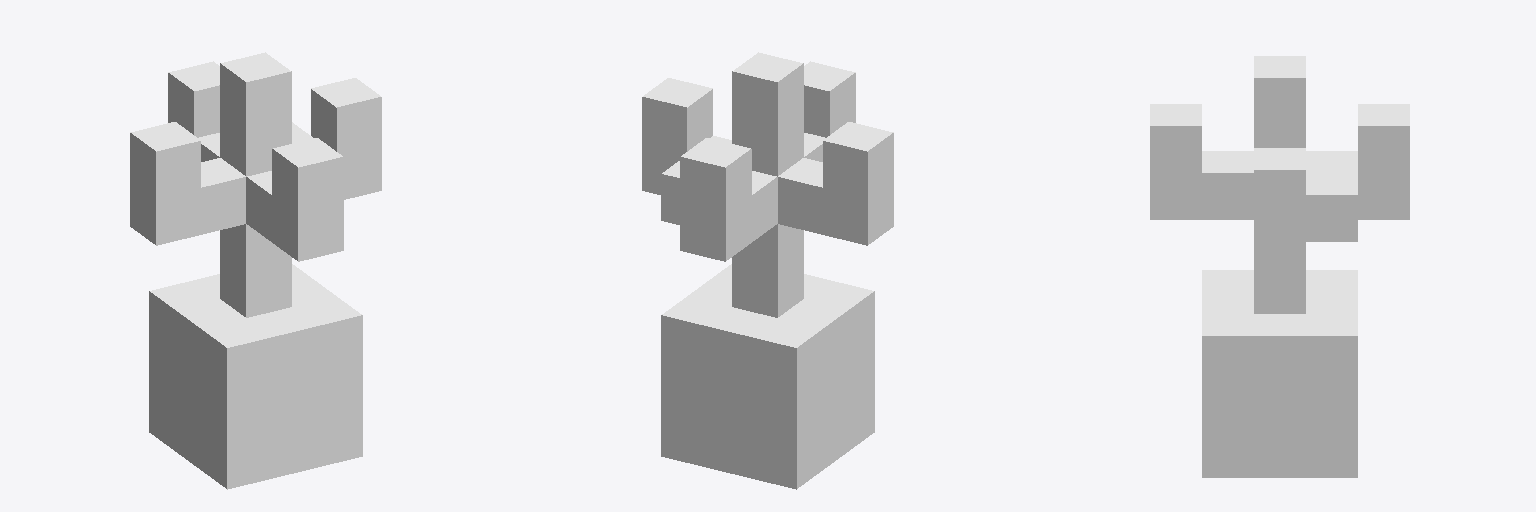
Rendered from BushTable.obj.
3 views of the same model, side by side, from view 1: azimuth 30°, elevation 25°; view 2: azimuth 150°, elevation 25°; view 3: azimuth 270°, elevation 25° (orthographic).
Visible parts, largest first — view 1: object 1; view 2: object 1; view 3: object 1.
Boxes of the visible parts, <box> form: object 1: <box>130,52,381,489</box>; object 1: <box>642,52,893,489</box>; object 1: <box>1150,56,1409,477</box>.
Bounding box in the file's own units: 0.5 × 0.8 × 0.5.